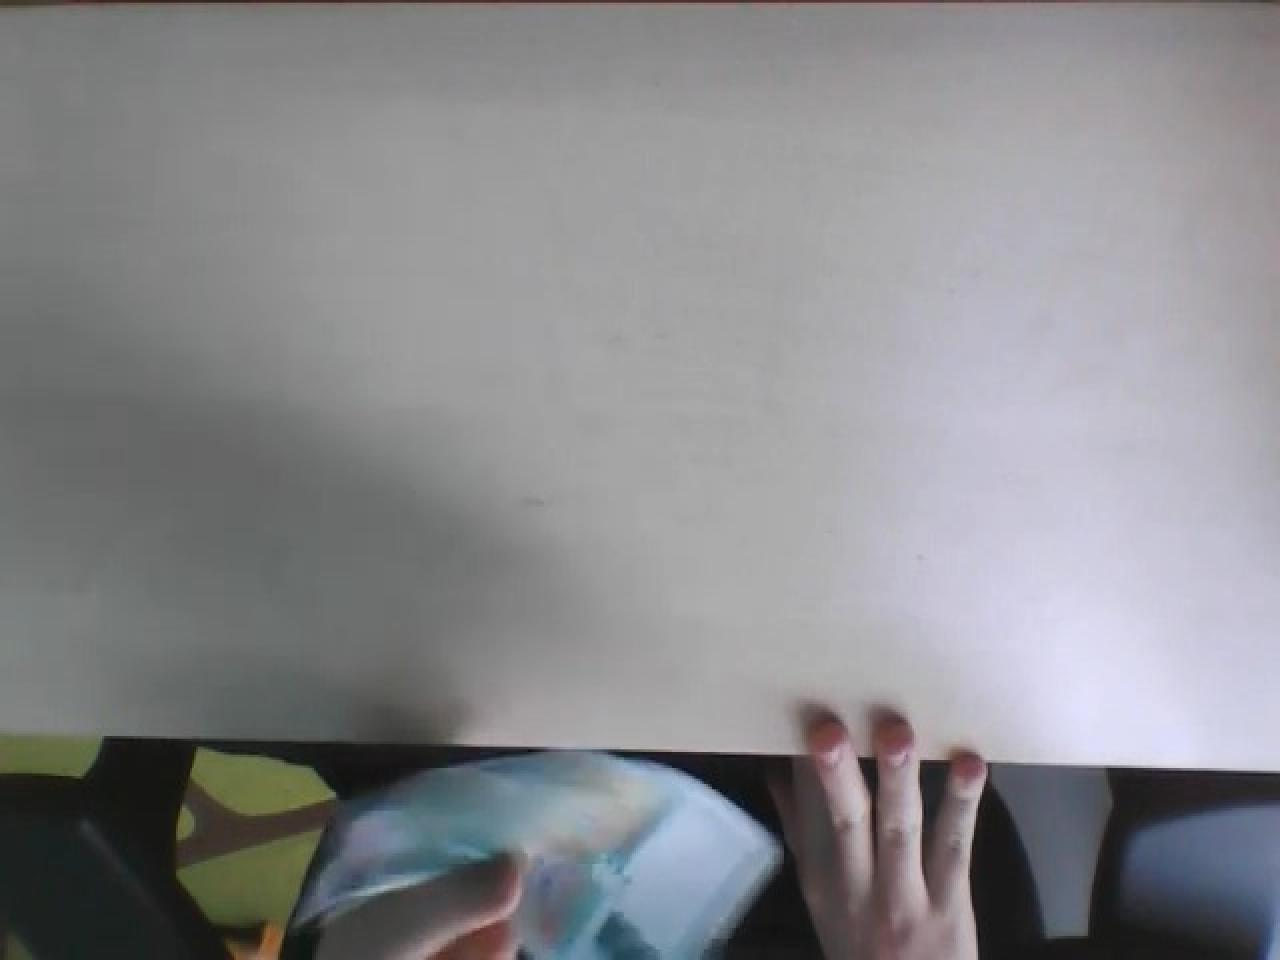100leva: (4, 8, 1278, 778), (282, 749, 786, 960)
